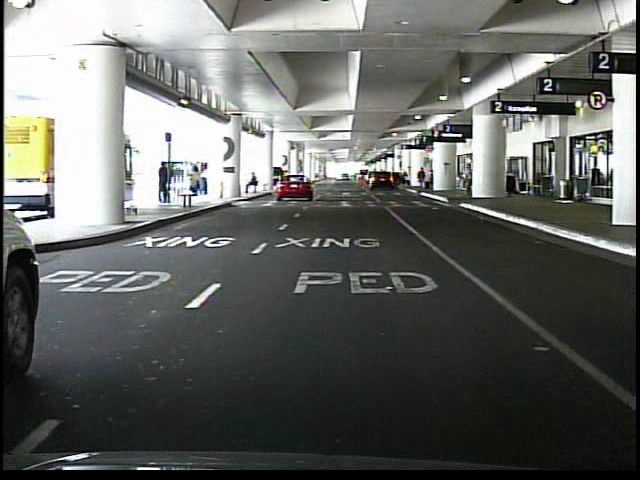person: (157, 163, 172, 206), (462, 162, 474, 200), (243, 172, 259, 195), (418, 166, 428, 192)
